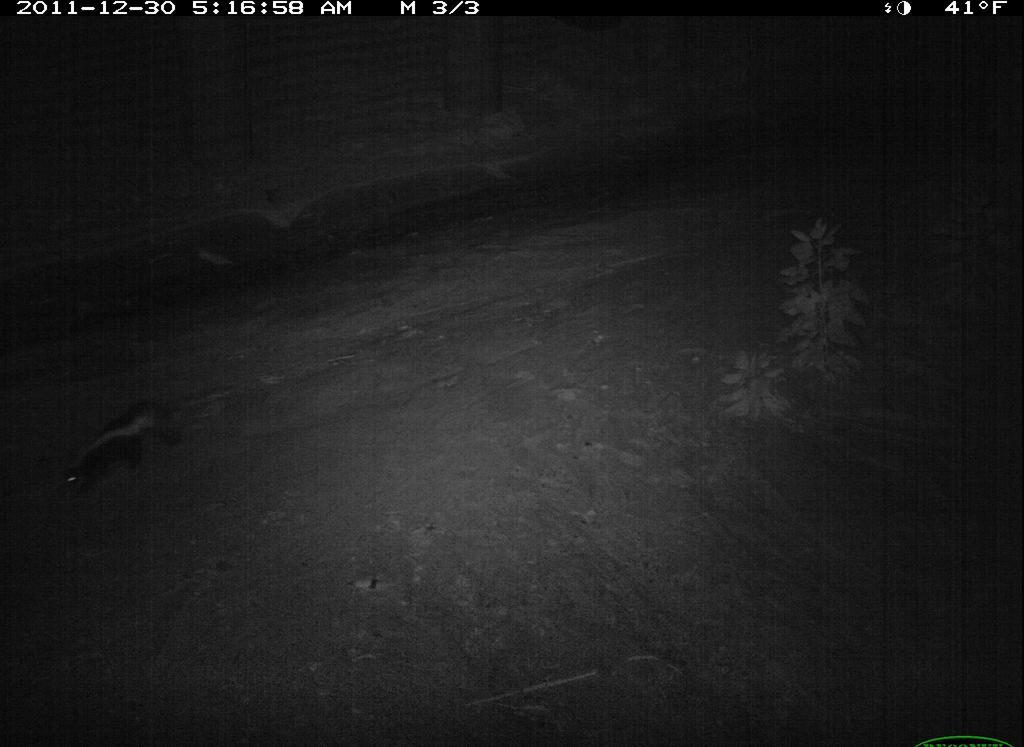skunk: (48, 387, 181, 511)
